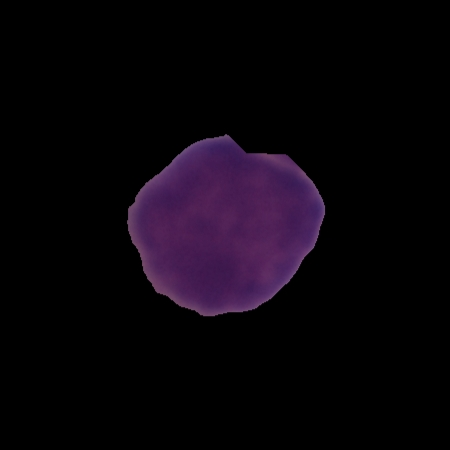HEM: (124, 129, 329, 320)
